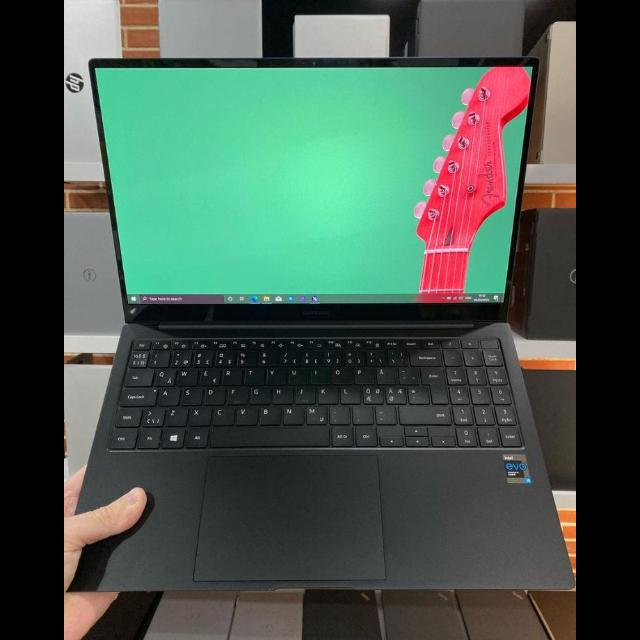laptop: (80, 44, 566, 602)
